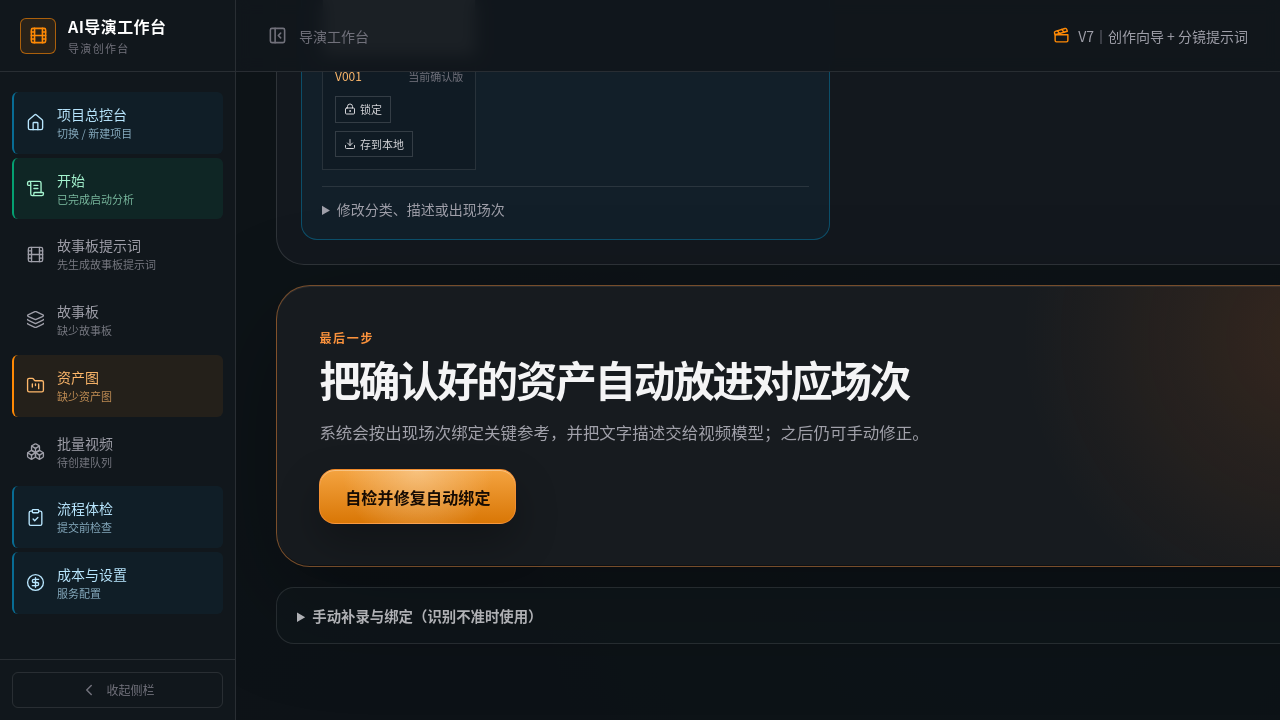
AI导演工作台 › 资产自动绑定无法连接后端时在按钮区域直接说明原因
This screenshot has width=1280, height=720.
(page scrolled)
Expected: the heading "把确认好的资产自动放进对应场次" is shown, top-left (319, 349), bottom-right (909, 409)
Click the button "自检并修复自动绑定".
click(418, 496)  # box top-left (319, 469), bottom-right (516, 524)
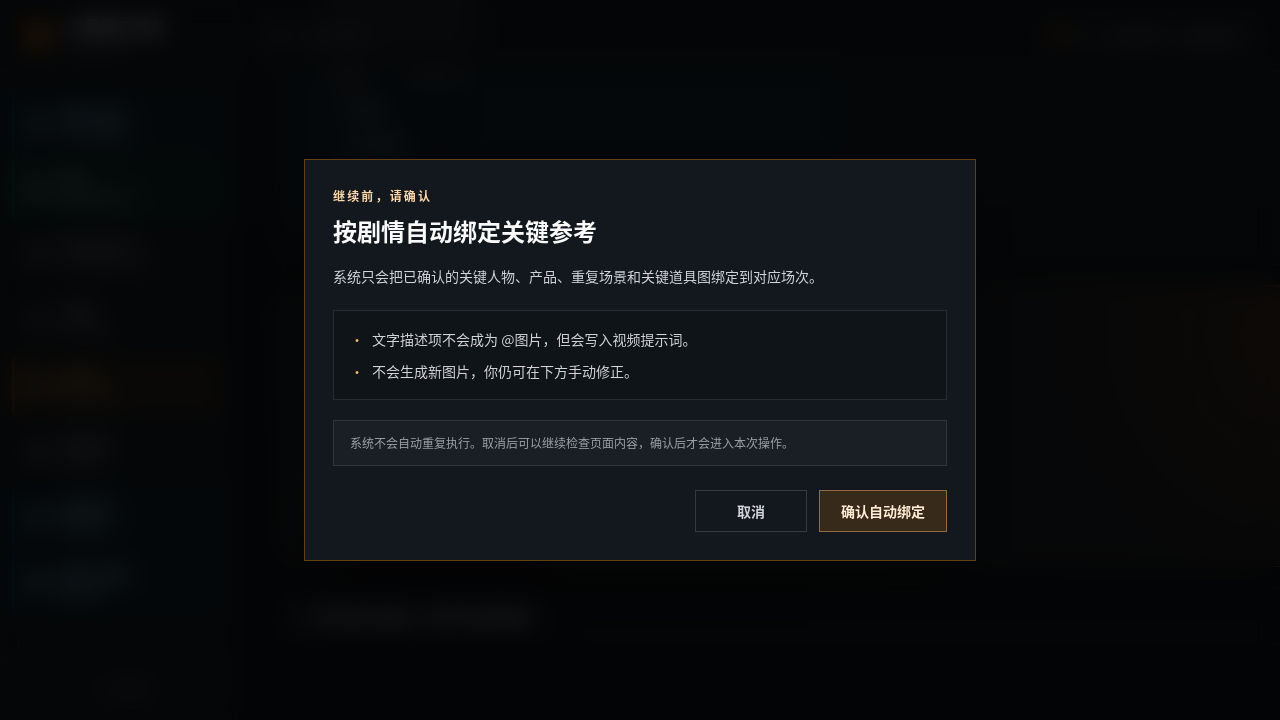
Expected: the text "继续前，请确认" is shown, top-left (333, 187), bottom-right (432, 204)
Expected: the heading "按剧情自动绑定关键参考" is shown, top-left (333, 213), bottom-right (597, 248)
Click the button "确认自动绑定".
click(883, 511)  # box top-left (819, 490), bottom-right (947, 532)
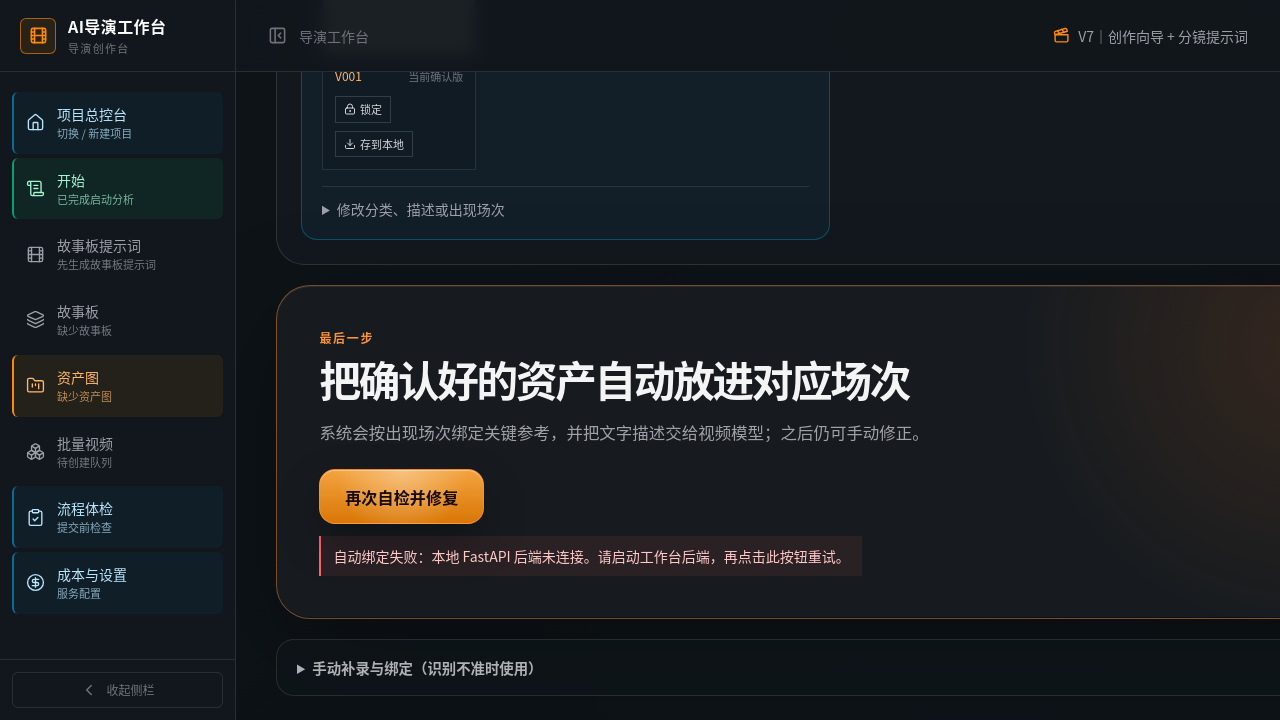
Expected: the text "自动绑定失败：本地 FastAPI 后端未连接。请启动工作台后端，再点击此按钮重试。" is shown, top-left (333, 544), bottom-right (850, 568)
